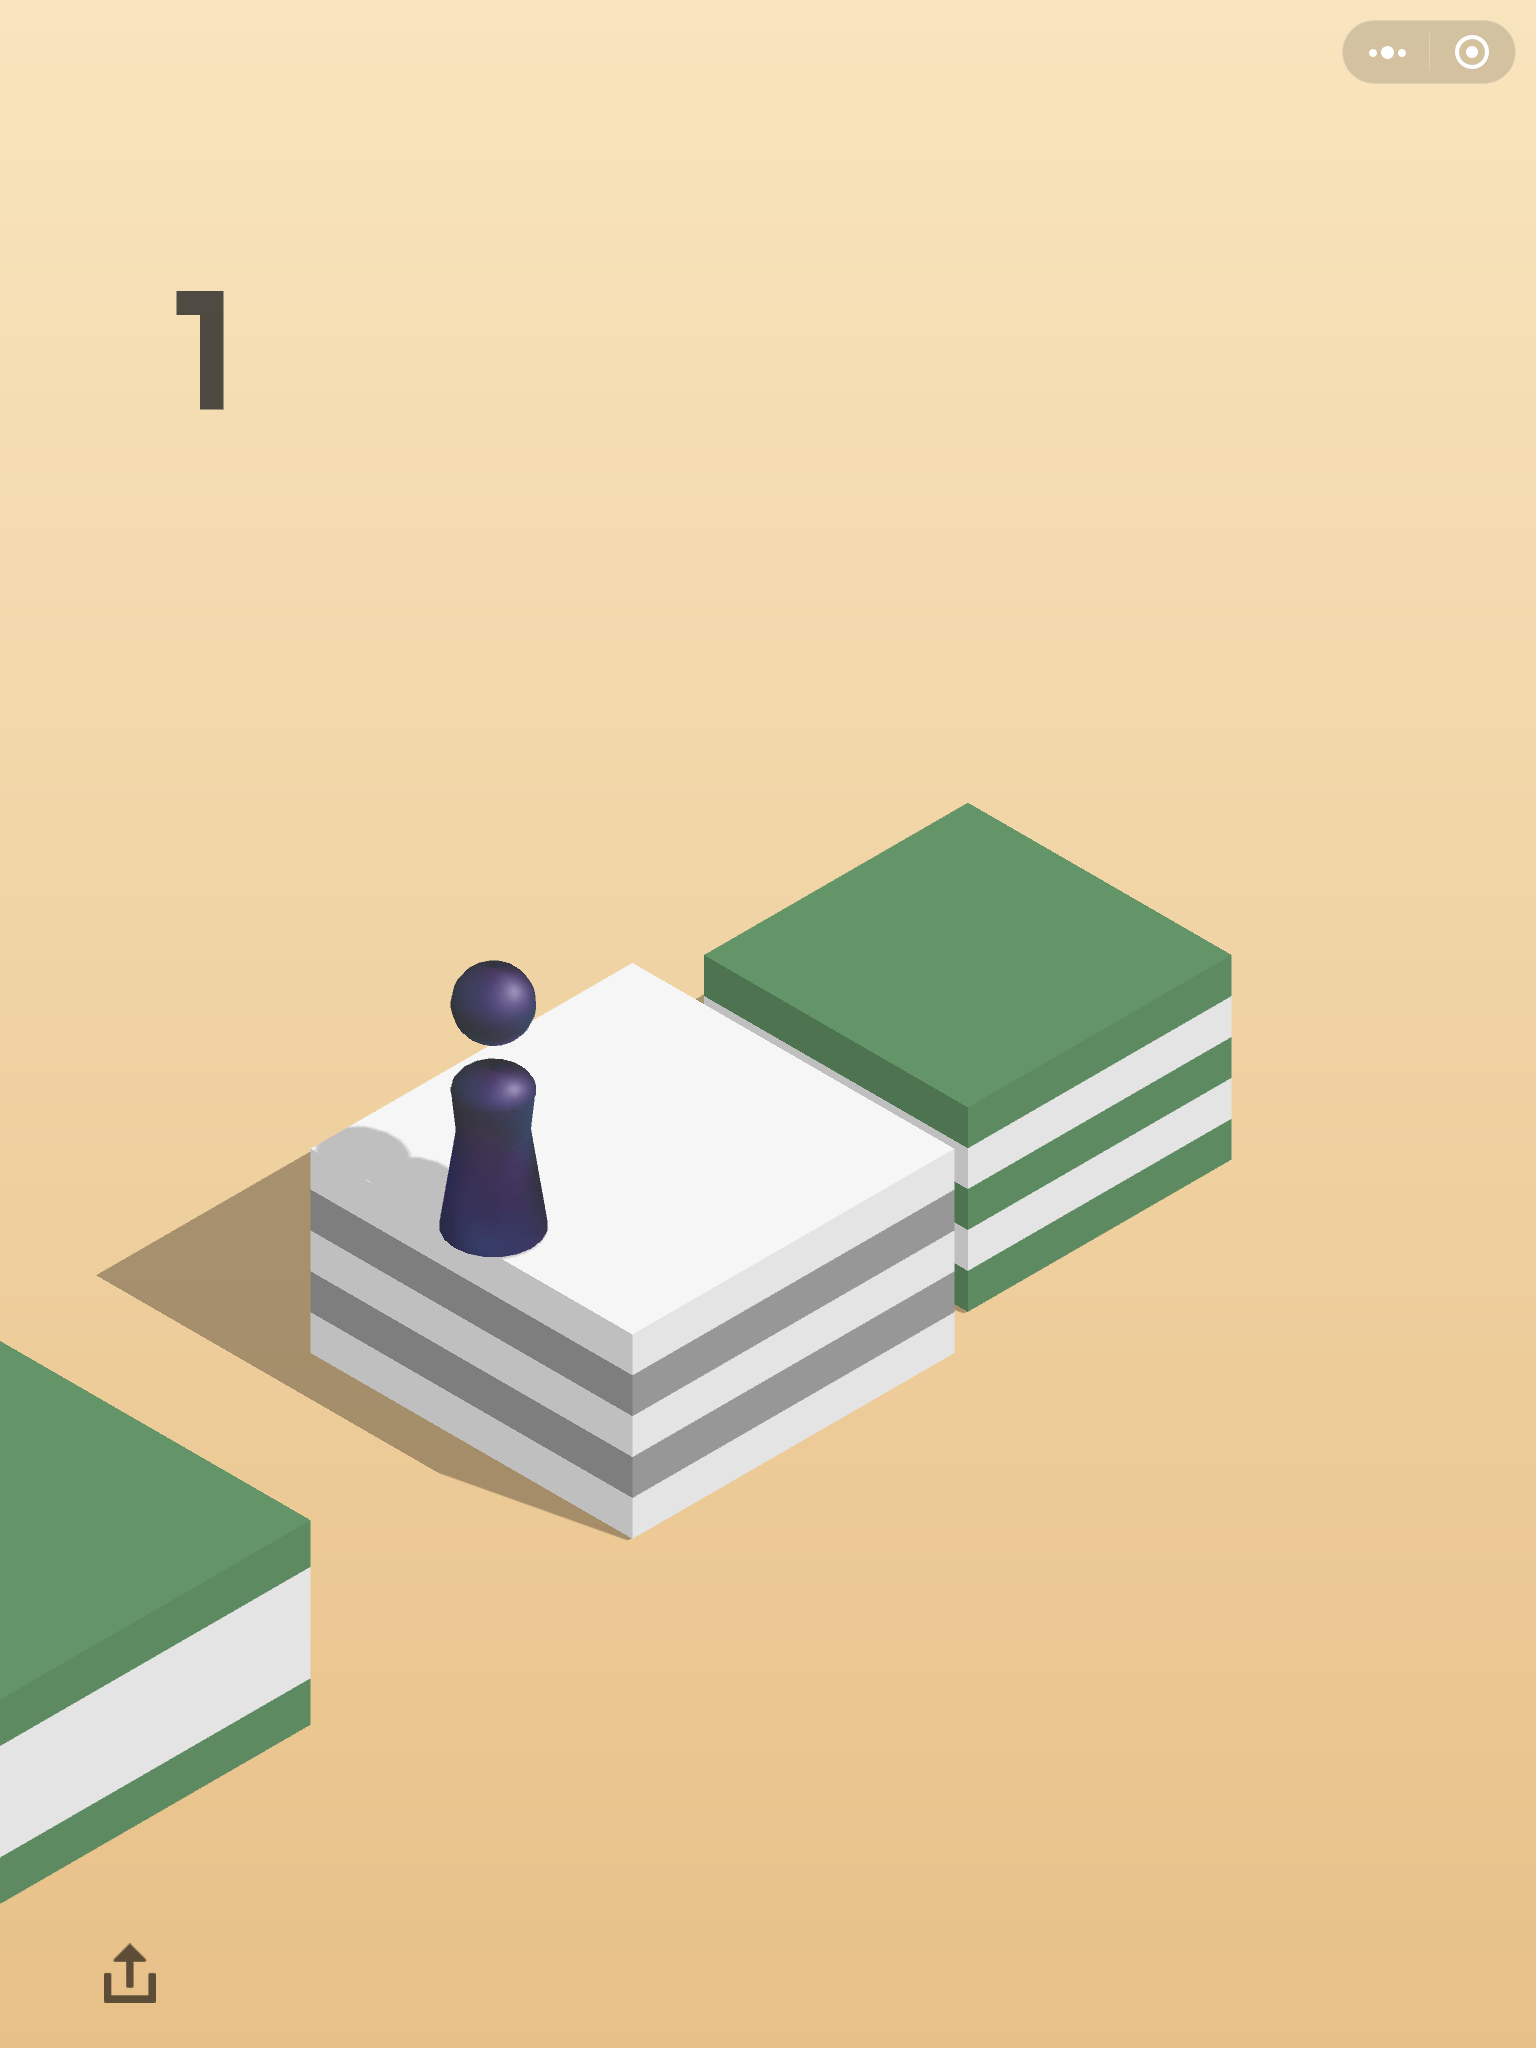f: (298, 956, 966, 1546), (699, 792, 1241, 1324), (2, 1329, 319, 1901)
r: (432, 942, 553, 1268)
